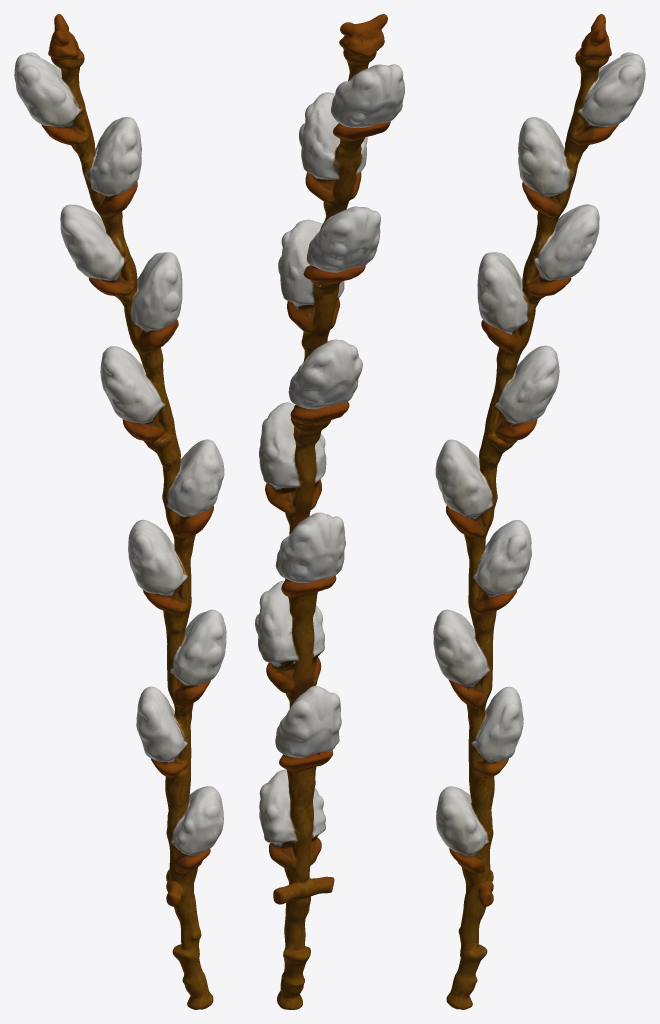
The model's file is Pussy Willow 2.glb.
The picture shows the model from 3 angles, left to right: view 1: azimuth 90°, elevation 25°; view 2: azimuth 210°, elevation 25°; view 3: azimuth 270°, elevation 25°; orthographic projection. The views are drawn at different scales.
Parts seen in each view (by area): view 1: tripo_node_ad234abc-2aa2-4e7b-a1ea-c41f4408d043; view 2: tripo_node_ad234abc-2aa2-4e7b-a1ea-c41f4408d043; view 3: tripo_node_ad234abc-2aa2-4e7b-a1ea-c41f4408d043.
Part boxes in pixels (<box>): tripo_node_ad234abc-2aa2-4e7b-a1ea-c41f4408d043: <box>14,14,226,1009</box>; tripo_node_ad234abc-2aa2-4e7b-a1ea-c41f4408d043: <box>255,14,404,1009</box>; tripo_node_ad234abc-2aa2-4e7b-a1ea-c41f4408d043: <box>433,14,645,1009</box>.
Size of the model in its own units: 0.0613 by 1 by 0.1954.
Materials: 1 (1 with a texture image).
